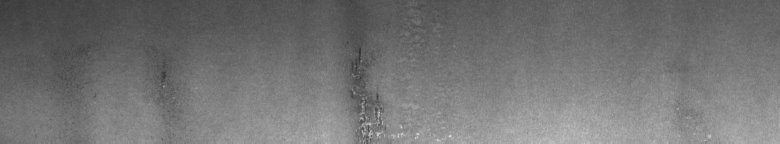hc: (344, 20, 426, 136)
